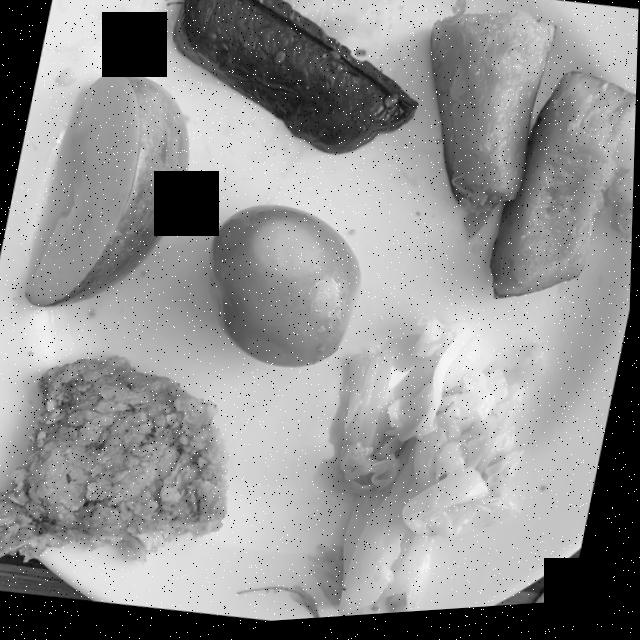apple -sliced-: (27, 73, 189, 307)
cabbage: (339, 322, 546, 619)
coin: (538, 590, 577, 611)
firm tofu: (172, 0, 417, 159)
fried chicken cutlet: (0, 358, 230, 563)
pumpkin: (430, 0, 637, 305)
soy egg: (209, 208, 362, 371)
